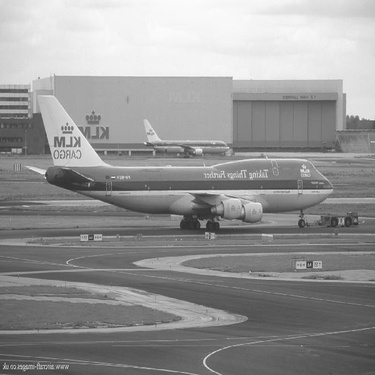airplane: (19, 82, 337, 239), (125, 110, 234, 162)
